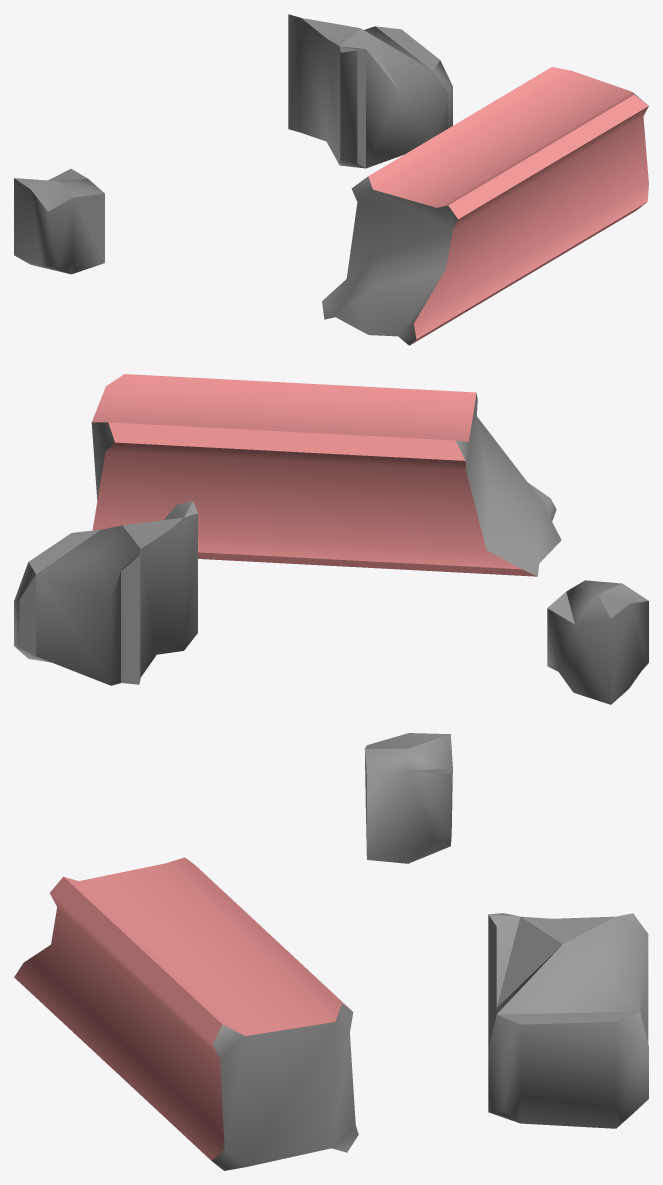
Rendered from world_obj14.gltf.
The picture shows the model from 3 angles, top to bottom: view 1: azimuth 30°, elevation 25°; view 2: azimuth 150°, elevation 25°; view 3: azimuth 270°, elevation 25°; orthographic projection. The views are drawn at different scales.
Visible parts, largest first — view 1: world_obj14; view 2: world_obj14; view 3: world_obj14.
Part boxes in pixels (x1=…): world_obj14: x1=14, y1=14, x2=648, y2=345; world_obj14: x1=14, y1=374, x2=648, y2=704; world_obj14: x1=14, y1=733, x2=648, y2=1170.
Bounding box in the file's own units: 1.77 × 0.4145 × 1.45.
